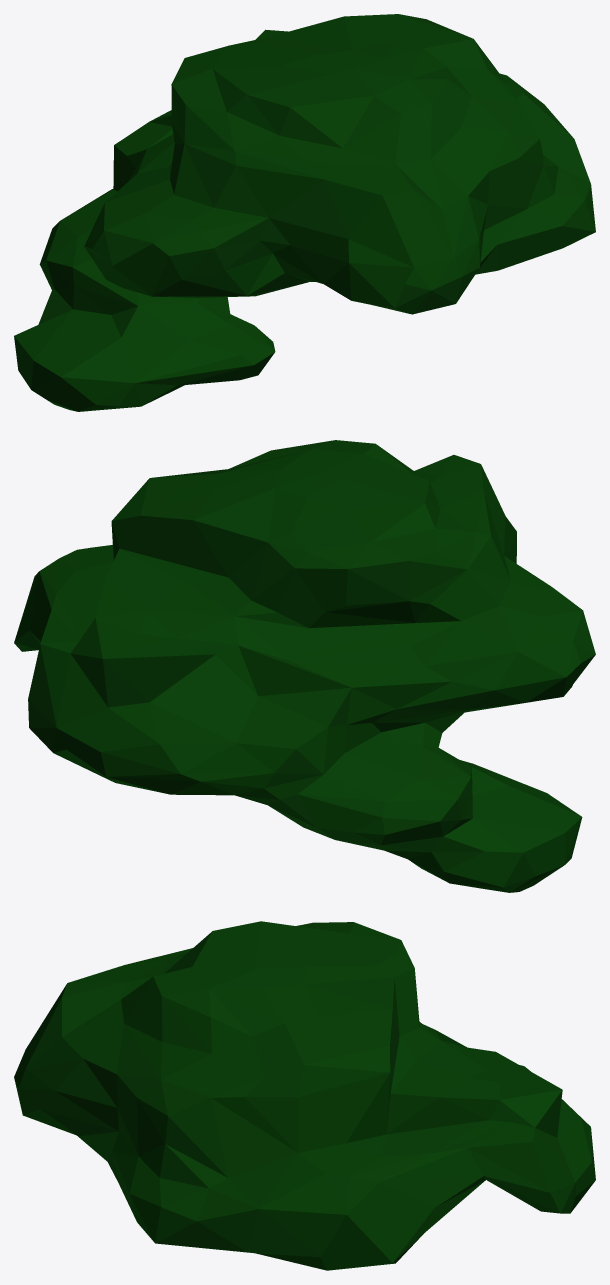
The model's file is DarkVegetationDecorationMediumCanopy1.fbx.
The picture shows the model from 3 angles, top to bottom: view 1: azimuth 30°, elevation 25°; view 2: azimuth 150°, elevation 25°; view 3: azimuth 270°, elevation 25°; orthographic projection. The views are drawn at different scales.
Visible parts, largest first — view 1: DarkVegetationDecorationMediumCanopy1; view 2: DarkVegetationDecorationMediumCanopy1; view 3: DarkVegetationDecorationMediumCanopy1.
Boxes of the visible parts, x1,y1,x2,y2 form: DarkVegetationDecorationMediumCanopy1: [14, 14, 595, 411]; DarkVegetationDecorationMediumCanopy1: [14, 440, 595, 892]; DarkVegetationDecorationMediumCanopy1: [14, 921, 595, 1270].
Bounding box in the file's own units: 1867 × 1066 × 1794.
